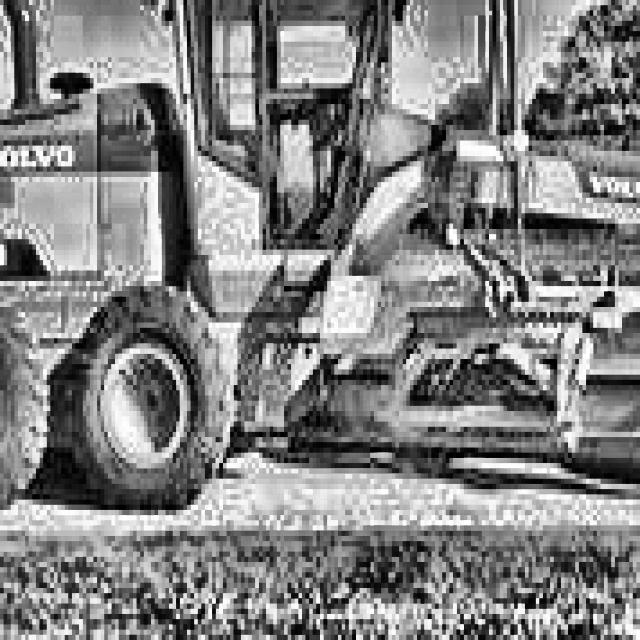buldozerpayloadergrader: (0, 0, 640, 526)
